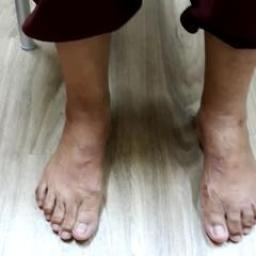Dorsal View -Both Feet-: (20, 52, 255, 251)
